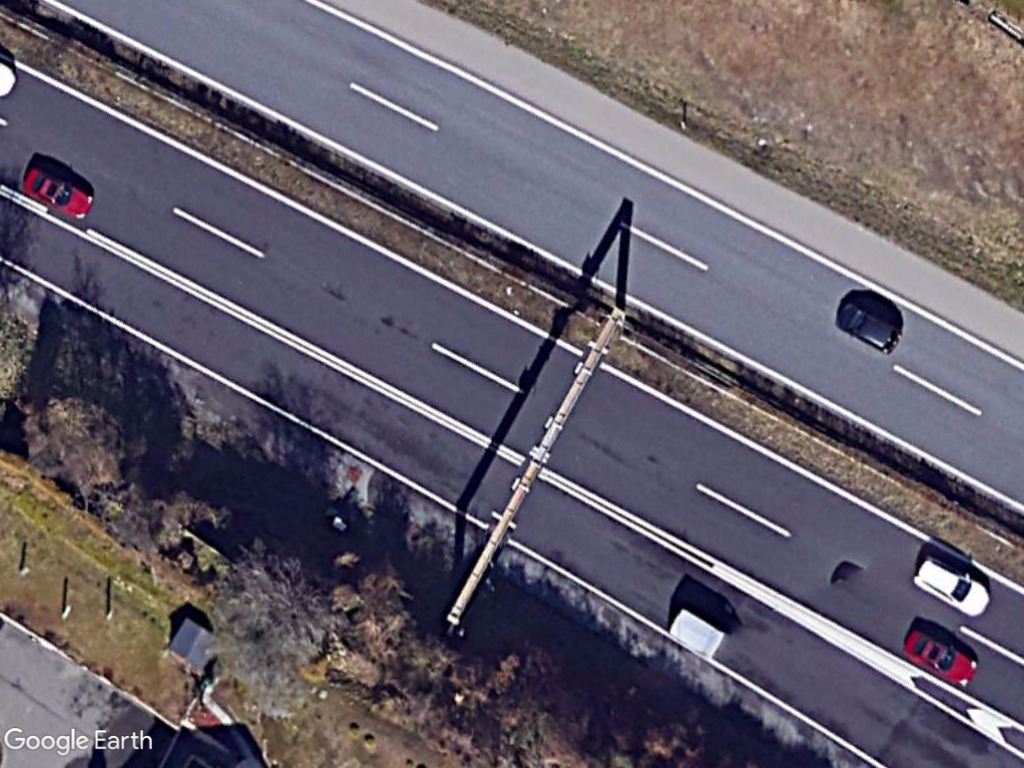car: (896, 617, 984, 692), (909, 552, 997, 621), (17, 160, 98, 228), (833, 297, 903, 356)
